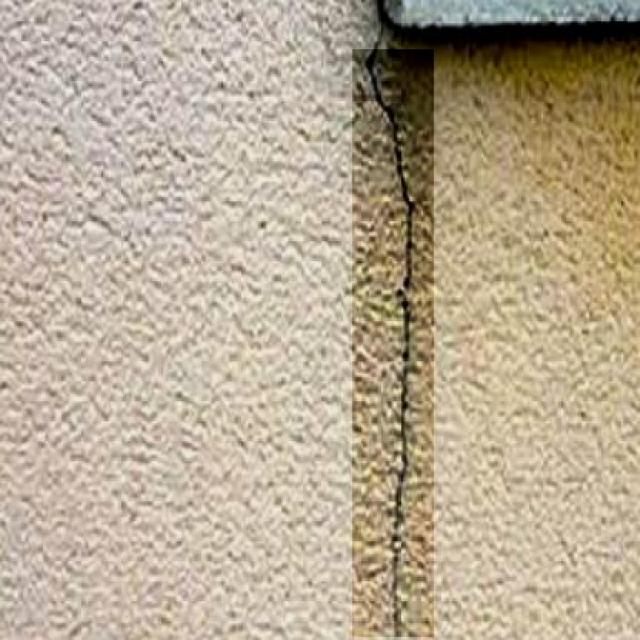Crack: (355, 38, 433, 632)
